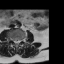CCS_normal: (15, 37, 17, 47)
LFS_normal: (19, 37, 21, 44)
LLS_normal: (17, 38, 19, 45)
RFS_normal: (11, 36, 13, 43)
RLS_normal: (13, 37, 15, 46)
